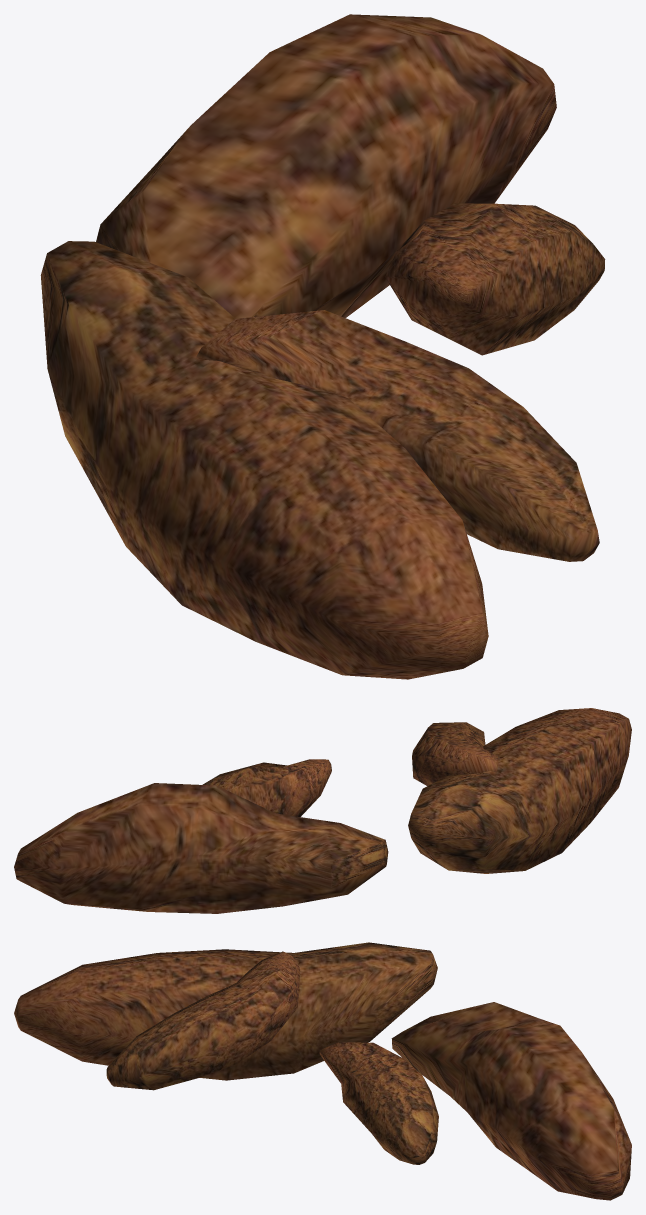
File: excrement.fbx
3 renders of one model, top to bottom at view 1: azimuth 30°, elevation 25°; view 2: azimuth 150°, elevation 25°; view 3: azimuth 270°, elevation 25°, orthographic. The views are drawn at different scales.
Parts seen in each view (by area): view 1: Cube_005, Cube_007, Cube_006, Cube_008; view 2: Cube_007, Cube_005, Cube_008, Cube_006; view 3: Cube_005, Cube_007, Cube_006, Cube_008.
Boxes of the visible parts, x1,y1,x2,y2 form: Cube_005: [40, 241, 488, 679]; Cube_007: [96, 14, 556, 318]; Cube_006: [196, 310, 599, 561]; Cube_008: [385, 203, 605, 355]; Cube_007: [14, 783, 388, 913]; Cube_005: [408, 708, 631, 873]; Cube_008: [202, 759, 331, 816]; Cube_006: [412, 722, 498, 785]; Cube_005: [14, 942, 437, 1080]; Cube_007: [391, 1002, 631, 1200]; Cube_006: [106, 951, 299, 1090]; Cube_008: [319, 1042, 438, 1164].
Size of the model in its own units: 0.1298 by 0.0418 by 0.1765.
